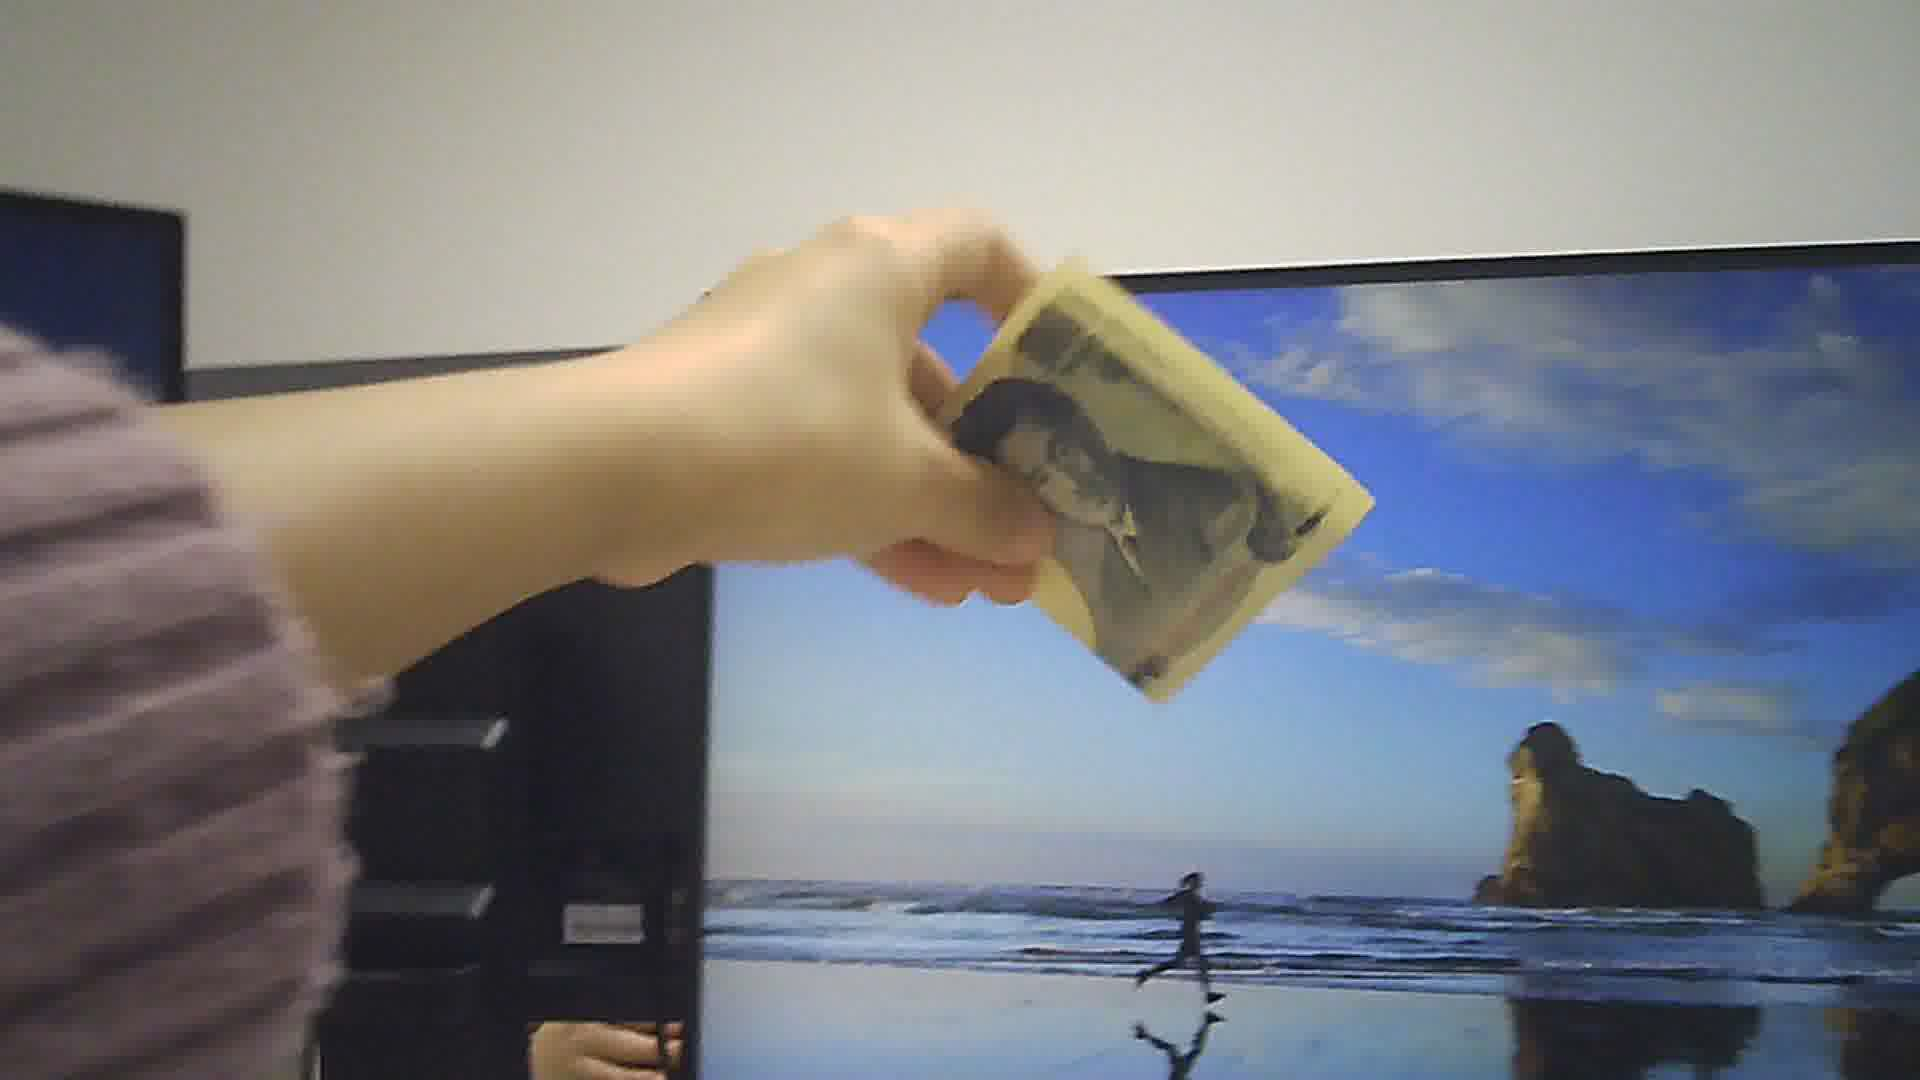1,000 Yen: (918, 261, 1367, 713)
